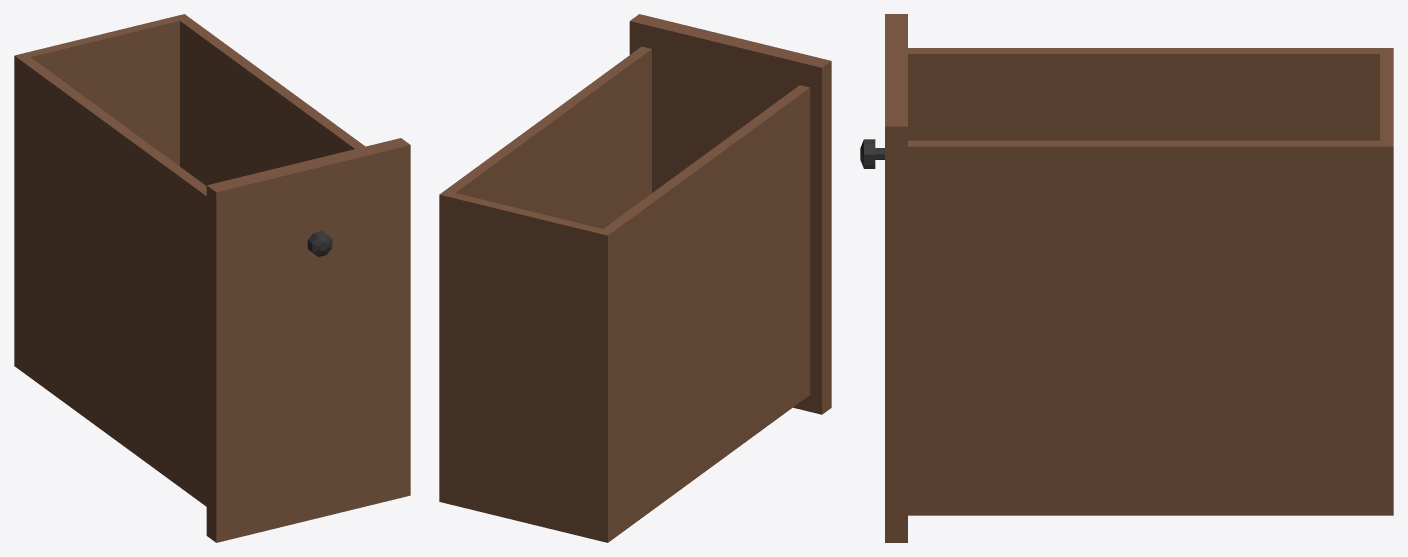
Rendered from Door3_C2_08.fbx.
The picture shows the model from 3 angles, left to right: view 1: azimuth 30°, elevation 25°; view 2: azimuth 150°, elevation 25°; view 3: azimuth 270°, elevation 25°; orthographic projection. The views are drawn at different scales.
Visible parts, largest first — view 1: Door3_C2_08; view 2: Door3_C2_08; view 3: Door3_C2_08.
Part boxes in pixels (x1,y1,x2,y2): Door3_C2_08: (14,14,410,542); Door3_C2_08: (439,14,831,542); Door3_C2_08: (860,14,1393,542).
Bounding box in the file's own units: 29 × 50 × 58.03.
